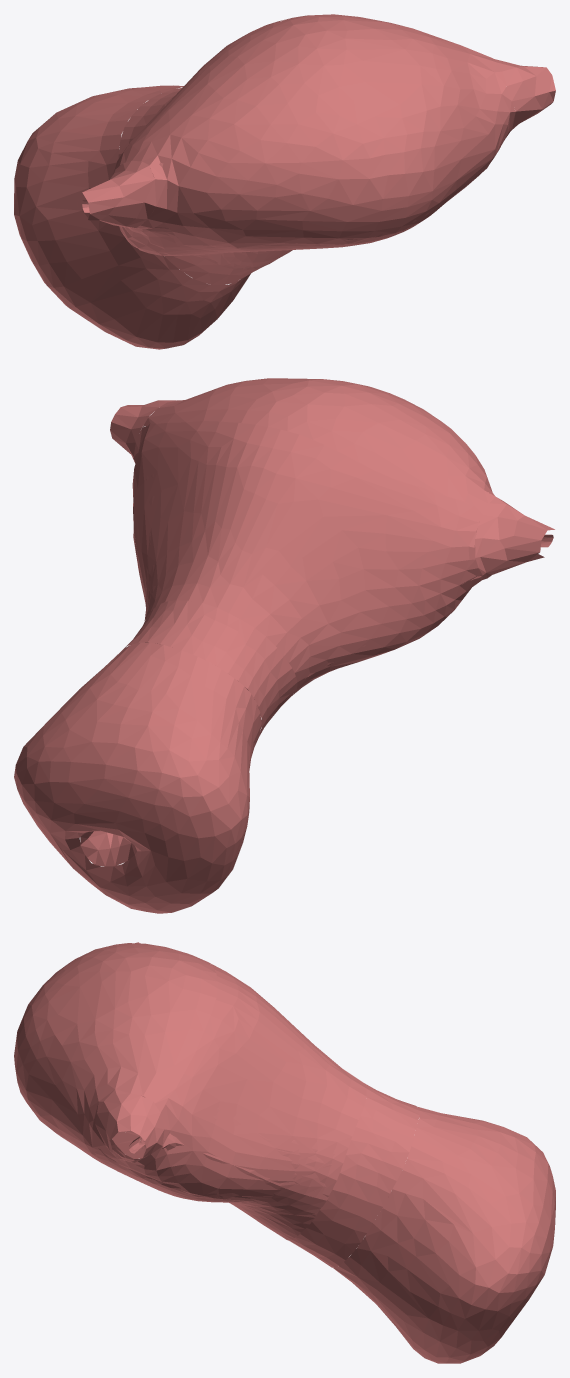
The model's file is VH_F_Uterus_0.2.glb.
3 renders of one model, top to bottom at view 1: azimuth 30°, elevation 25°; view 2: azimuth 150°, elevation 25°; view 3: azimuth 270°, elevation 25°, orthographic. The views are drawn at different scales.
Parts seen in each view (by area): view 1: VH_F_fundus_of_uterus, VH_F_cervix, VH_F_cornua, VH_F_posterior_wall_of_uterus, VH_F_lower_uterine_segment, VH_F_body_of_uterus; view 2: VH_F_body_of_uterus, VH_F_cervix, VH_F_fundus_of_uterus, VH_F_lower_uterine_segment, VH_F_cornua, VH_F_external_cervical_os; view 3: VH_F_cervix, VH_F_body_of_uterus, VH_F_fundus_of_uterus, VH_F_lower_uterine_segment, VH_F_posterior_wall_of_uterus, VH_F_cornua, VH_F_anterior_wall_of_uterus.
Part boxes in pixels (x1=…): VH_F_fundus_of_uterus: x1=132, y1=14, x2=515, y2=250; VH_F_cervix: x1=14, y1=85, x2=250, y2=349; VH_F_cornua: x1=77, y1=59, x2=555, y2=227; VH_F_posterior_wall_of_uterus: x1=139, y1=146, x2=500, y2=269; VH_F_lower_uterine_segment: x1=118, y1=88, x2=263, y2=284; VH_F_body_of_uterus: x1=112, y1=18, x2=511, y2=269; VH_F_body_of_uterus: x1=132, y1=421, x2=487, y2=695; VH_F_cervix: x1=14, y1=642, x2=261, y2=913; VH_F_fundus_of_uterus: x1=143, y1=378, x2=495, y2=513; VH_F_lower_uterine_segment: x1=124, y1=600, x2=297, y2=736; VH_F_cornua: x1=110, y1=400, x2=554, y2=578; VH_F_external_cervical_os: x1=80, y1=831, x2=136, y2=866; VH_F_cervix: x1=333, y1=1107, x2=555, y2=1363; VH_F_body_of_uterus: x1=112, y1=963, x2=366, y2=1216; VH_F_fundus_of_uterus: x1=14, y1=943, x2=217, y2=1163; VH_F_lower_uterine_segment: x1=289, y1=1084, x2=419, y2=1267; VH_F_posterior_wall_of_uterus: x1=37, y1=1115, x2=326, y2=1240; VH_F_cornua: x1=95, y1=942, x2=164, y2=1165; VH_F_anterior_wall_of_uterus: x1=142, y1=977, x2=350, y2=1200.
Bounding box in the file's own units: 0.0525 × 0.0471 × 0.0587.
